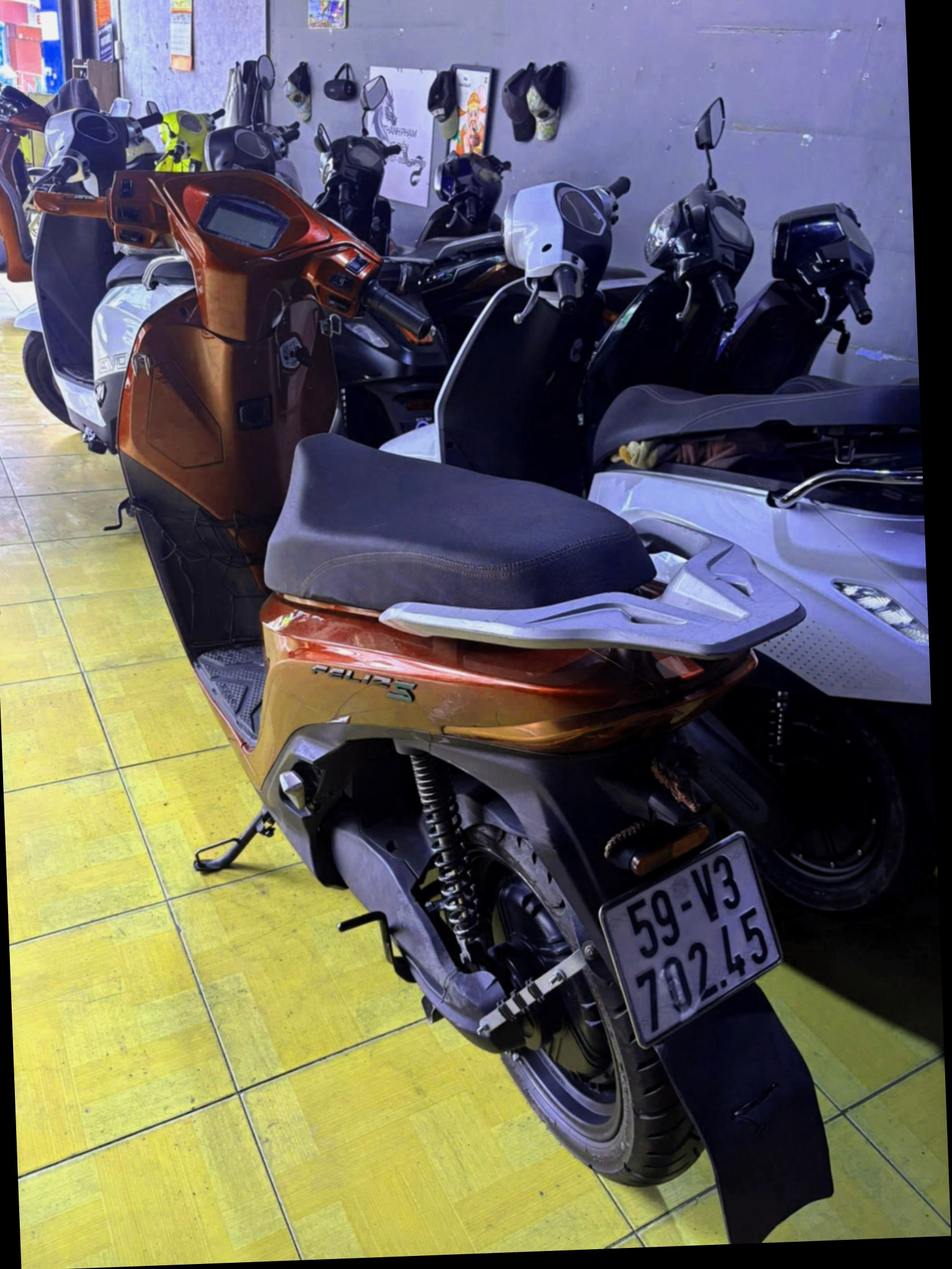Bien-so: (601, 856, 817, 1074)
